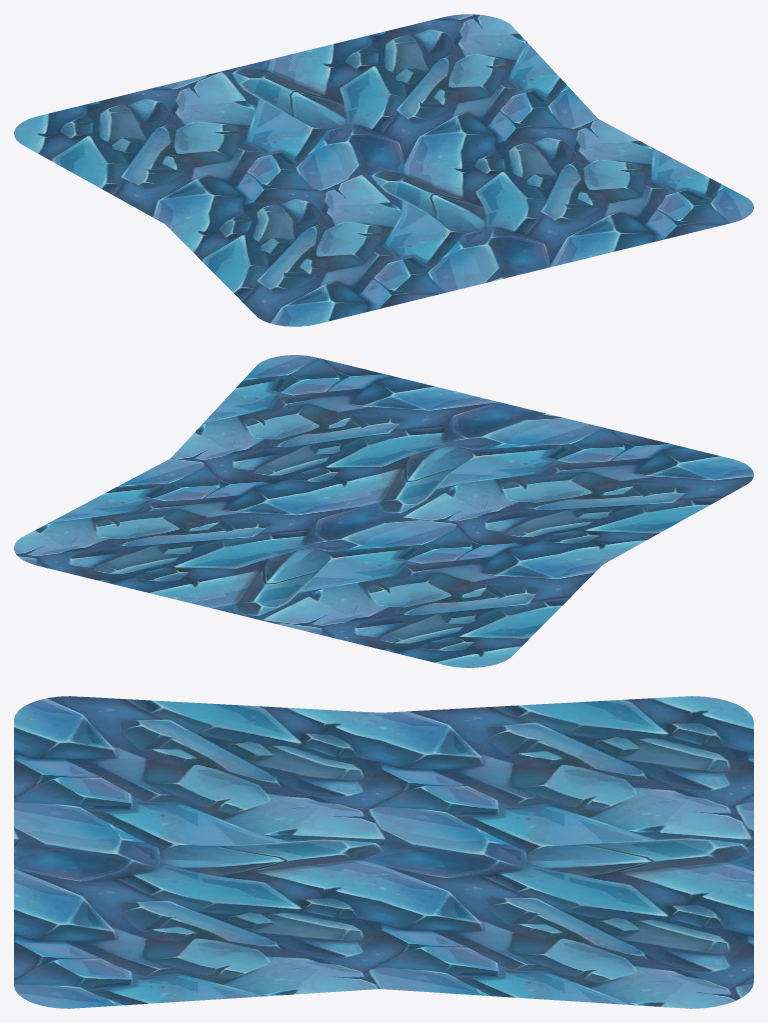
Rendered from planeIce.fbx.
3 views of the same model, one above another, from view 1: azimuth 30°, elevation 25°; view 2: azimuth 150°, elevation 25°; view 3: azimuth 270°, elevation 25° (orthographic). The views are drawn at different scales.
Visible parts, largest first — view 1: Plane; view 2: Plane; view 3: Plane.
Boxes of the visible parts, box(x1,y1,x2,y2) form: Plane: box(14, 14, 753, 326); Plane: box(14, 355, 753, 667); Plane: box(14, 696, 753, 1008).
Size of the model in its own units: 4000 by 0.000652 by 4000.
